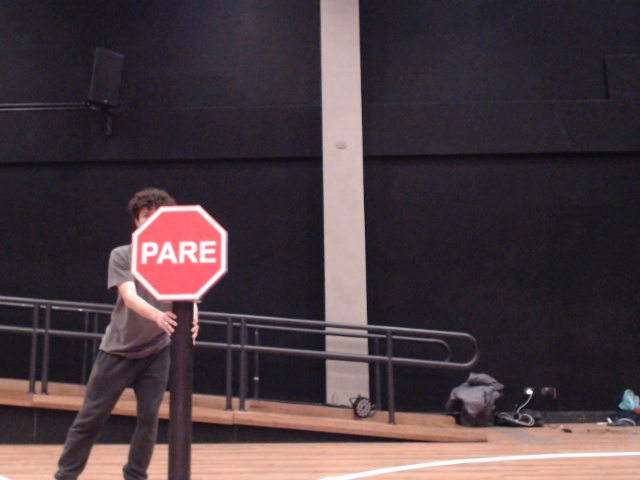SEMAFORO: (114, 192, 258, 324)
